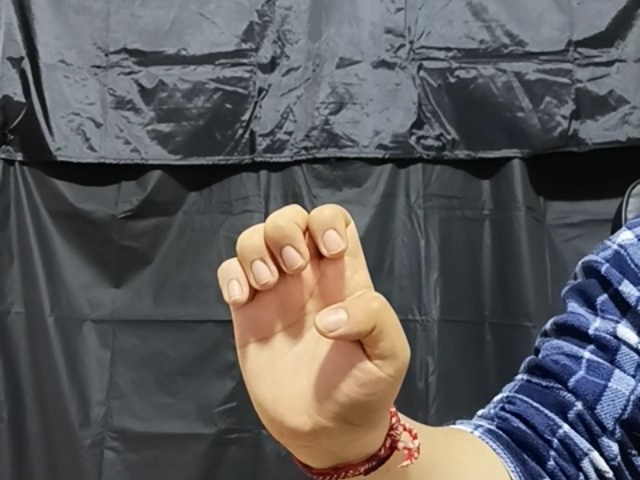E: (216, 202, 419, 458)
